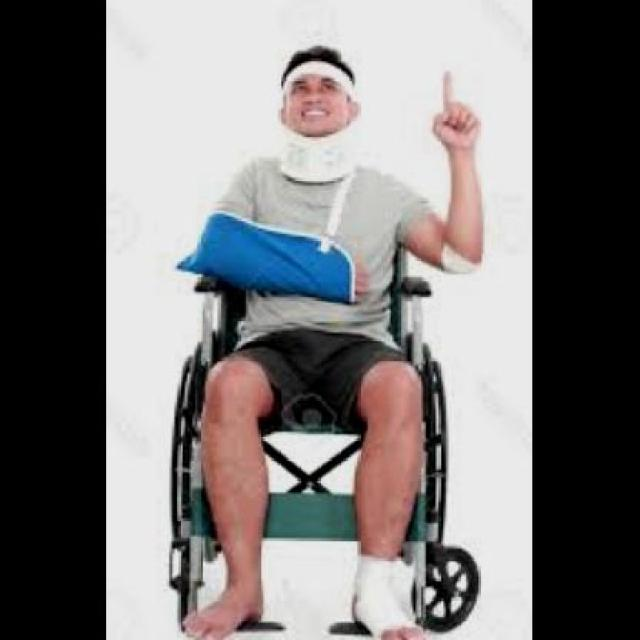wheelchairs: (164, 269, 481, 640)
